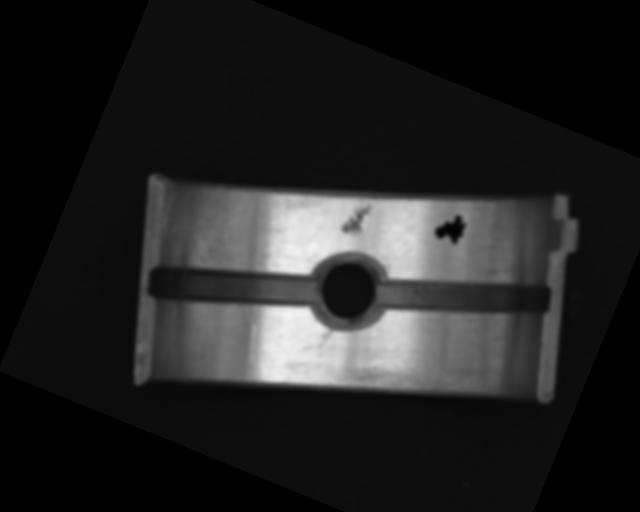blot: (432, 208, 470, 247)
bruise: (339, 198, 374, 240)
gap: (375, 230, 554, 364), (147, 225, 319, 350)
hole: (302, 244, 396, 339)
nick: (232, 323, 279, 384), (316, 324, 336, 352)
scratch: (336, 333, 487, 437)
